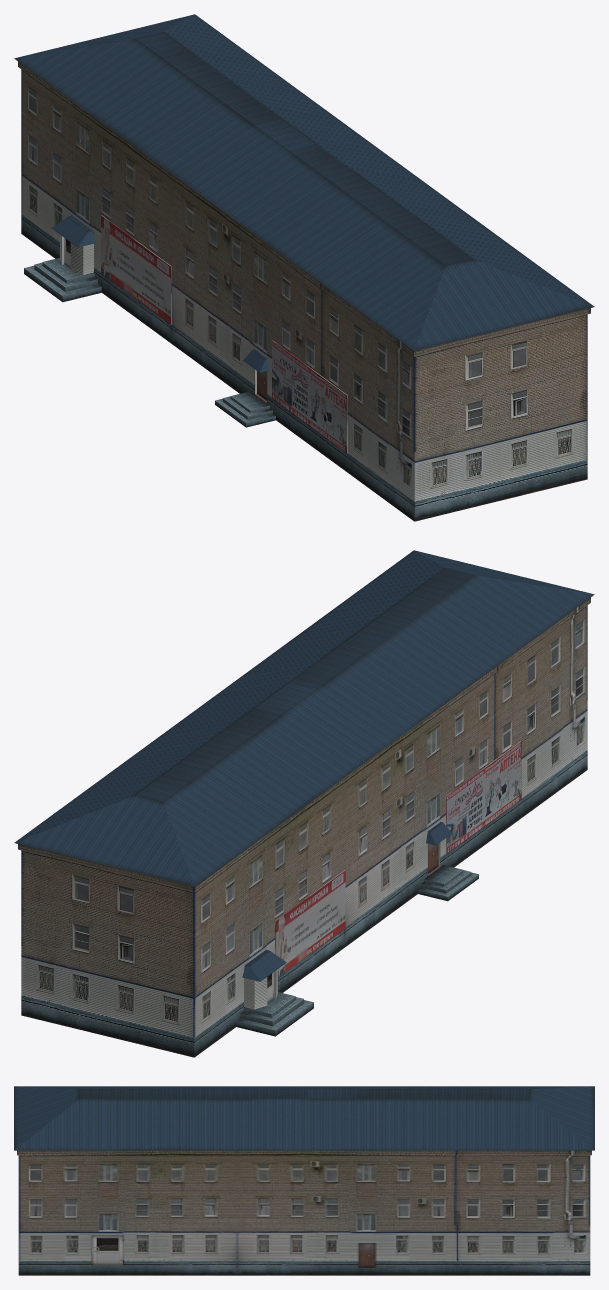
Rendered from r402_ishim_dom14.FBX.
3 views of the same model, one above another, from view 1: azimuth 30°, elevation 25°; view 2: azimuth 150°, elevation 25°; view 3: azimuth 270°, elevation 25° (orthographic). The views are drawn at different scales.
Parts seen in each view (by area): view 1: r402_ishim_dom14; view 2: r402_ishim_dom14; view 3: r402_ishim_dom14.
Boxes of the visible parts, bbox=[...] form: r402_ishim_dom14: bbox=[14, 14, 594, 521]; r402_ishim_dom14: bbox=[14, 550, 594, 1057]; r402_ishim_dom14: bbox=[14, 1086, 594, 1275].
Size of the model in its own units: 1498 by 4799 by 1376.
